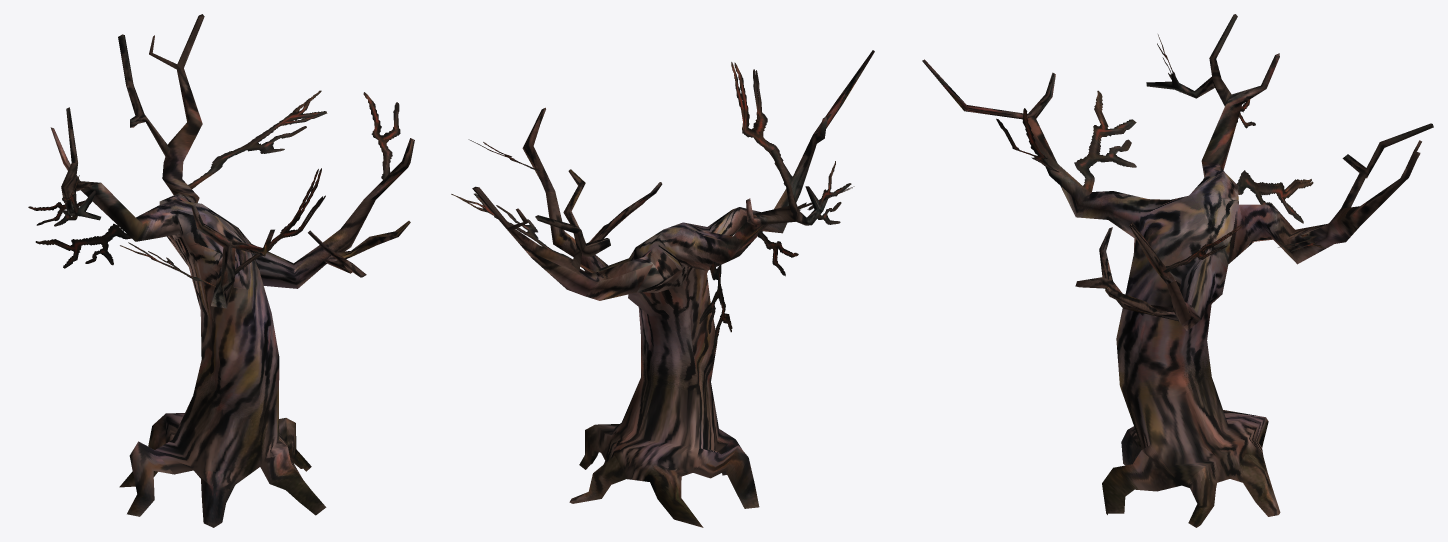
File: FOL_DeadTreeC.FBX
The picture shows the model from 3 angles, left to right: view 1: azimuth 30°, elevation 25°; view 2: azimuth 150°, elevation 25°; view 3: azimuth 270°, elevation 25°; orthographic projection. The views are drawn at different scales.
Parts seen in each view (by area): view 1: FOL_DeadTreeC; view 2: FOL_DeadTreeC; view 3: FOL_DeadTreeC.
Boxes of the visible parts, x1,y1,x2,y2 form: FOL_DeadTreeC: (28, 14, 414, 527); FOL_DeadTreeC: (451, 50, 874, 527); FOL_DeadTreeC: (922, 14, 1433, 527).
Bounding box in the file's own units: 590 × 580 × 640.
